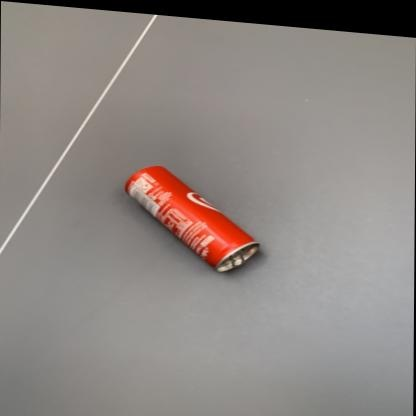trash: (125, 166, 258, 271)
